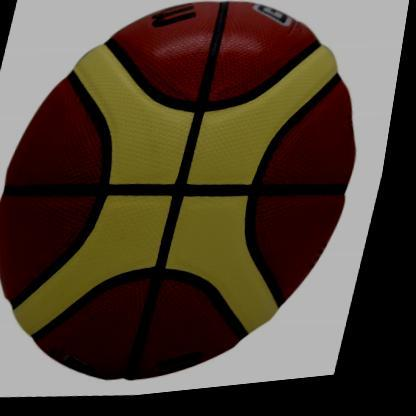basketball: (0, 0, 397, 412)
